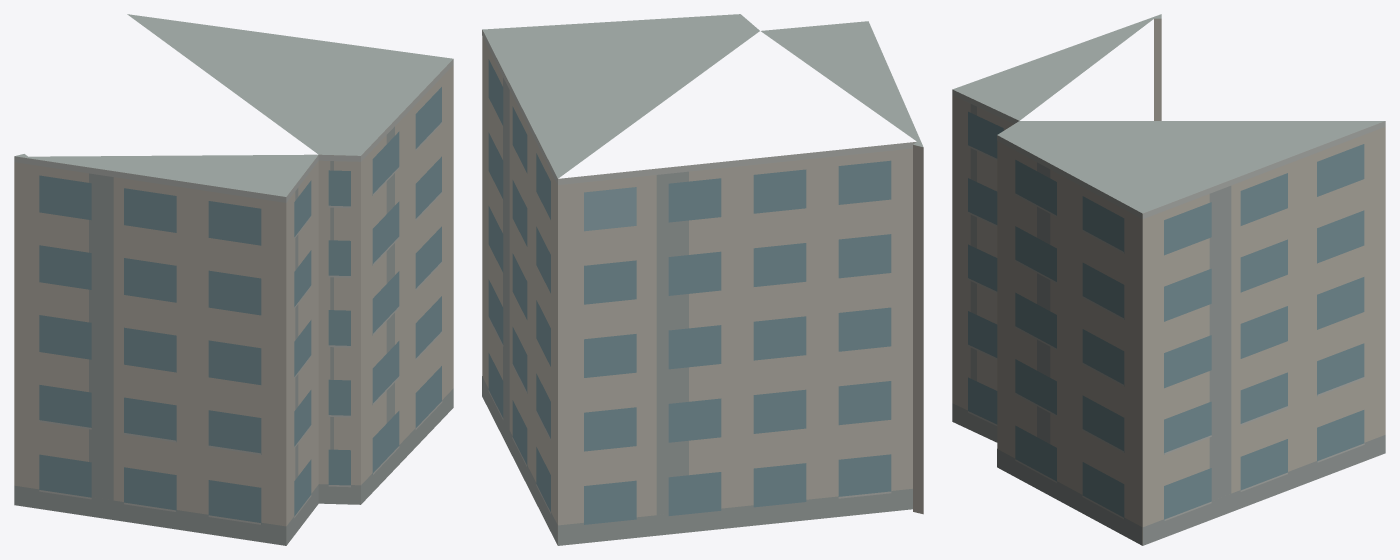
File: survey-upis-32834767.glb
3 renders of one model, left to right at view 1: azimuth 30°, elevation 25°; view 2: azimuth 150°, elevation 25°; view 3: azimuth 270°, elevation 25°, orthographic. The views are drawn at different scales.
Parts seen in each view (by area): view 1: survey-upis-32834767.tmp; view 2: survey-upis-32834767.tmp; view 3: survey-upis-32834767.tmp.
Part boxes in pixels (left/top/right/bottom): survey-upis-32834767.tmp: left=14, top=14, right=453, bottom=545; survey-upis-32834767.tmp: left=482, top=14, right=923, bottom=545; survey-upis-32834767.tmp: left=952, top=14, right=1385, bottom=545.
Bounding box in the file's own units: 18.3 × 14.2 × 16.79.
